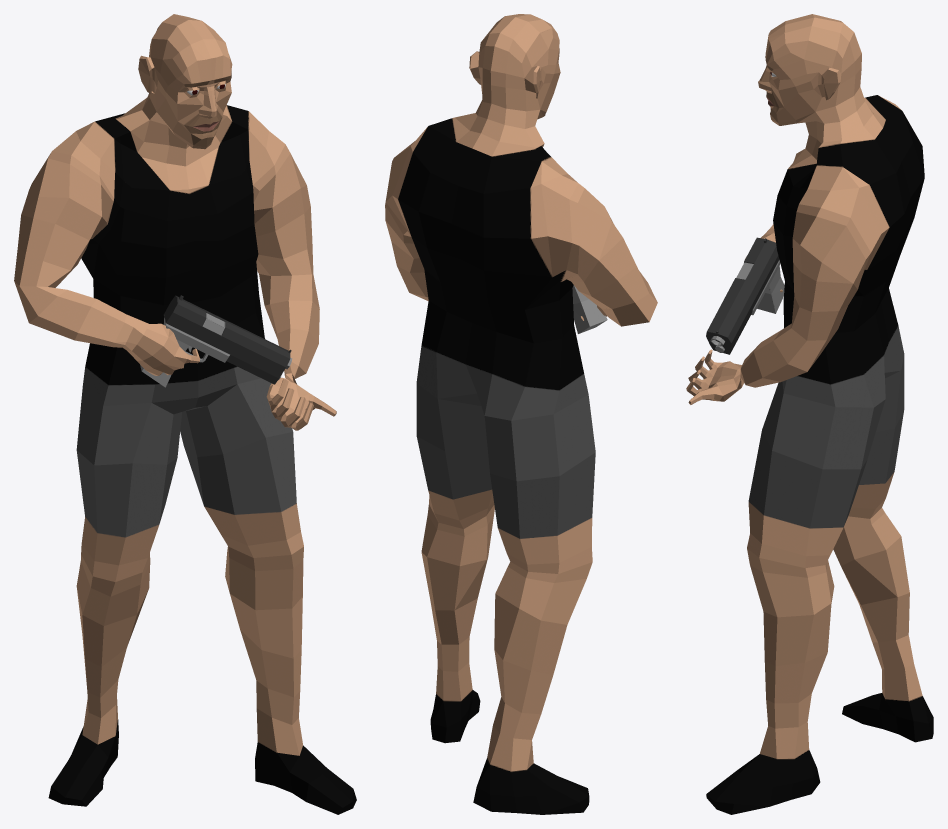
File: PlayerIdle(6).obj
3 views of the same model, side by side, from view 1: azimuth 30°, elevation 25°; view 2: azimuth 150°, elevation 25°; view 3: azimuth 270°, elevation 25° (orthographic). The views are drawn at different scales.
Visible parts, largest first — view 1: Plane002, Box003; view 2: Plane002, Box003; view 3: Plane002, Box003.
Part boxes in pixels (box(x1,y1,x2,y2)): Plane002: box(14, 14, 356, 814); Box003: box(140, 295, 292, 387); Plane002: box(385, 14, 657, 814); Box003: box(572, 285, 607, 333); Plane002: box(686, 14, 933, 814); Box003: box(706, 237, 784, 354).
Size of the model in its own units: 678 by 1807 by 548.
